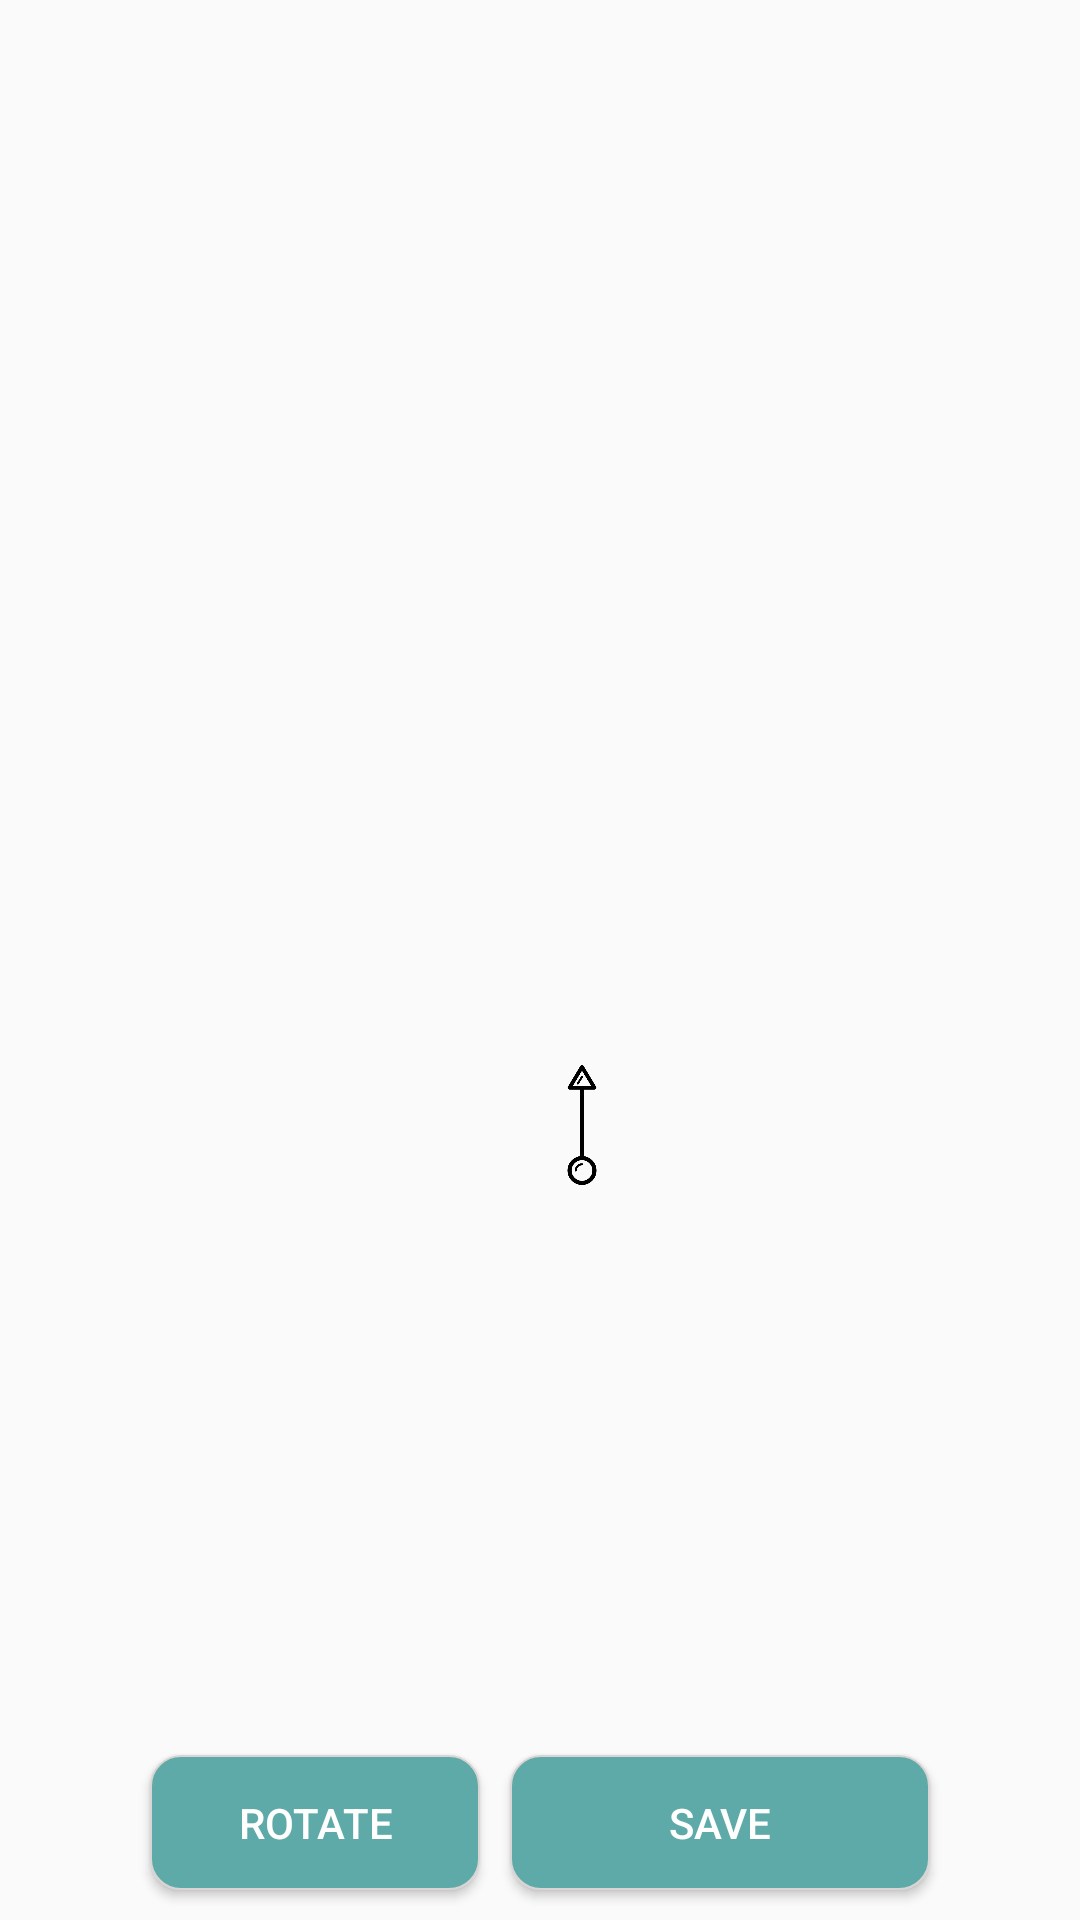

Screen size 1080×1920. Icon name, then its box in pixels as (x1, y1, x2, y2):
arrow: (567, 1065, 597, 1185)
